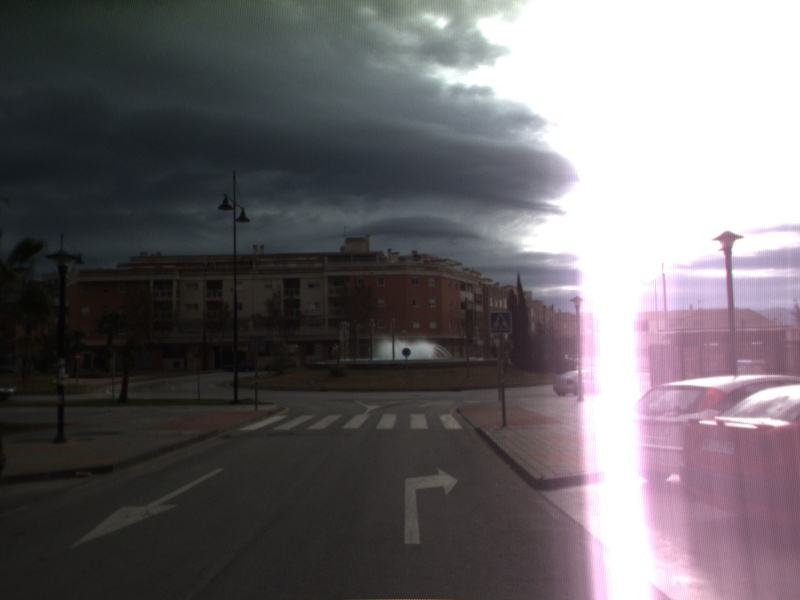RIGHT: (401, 466, 461, 547)
